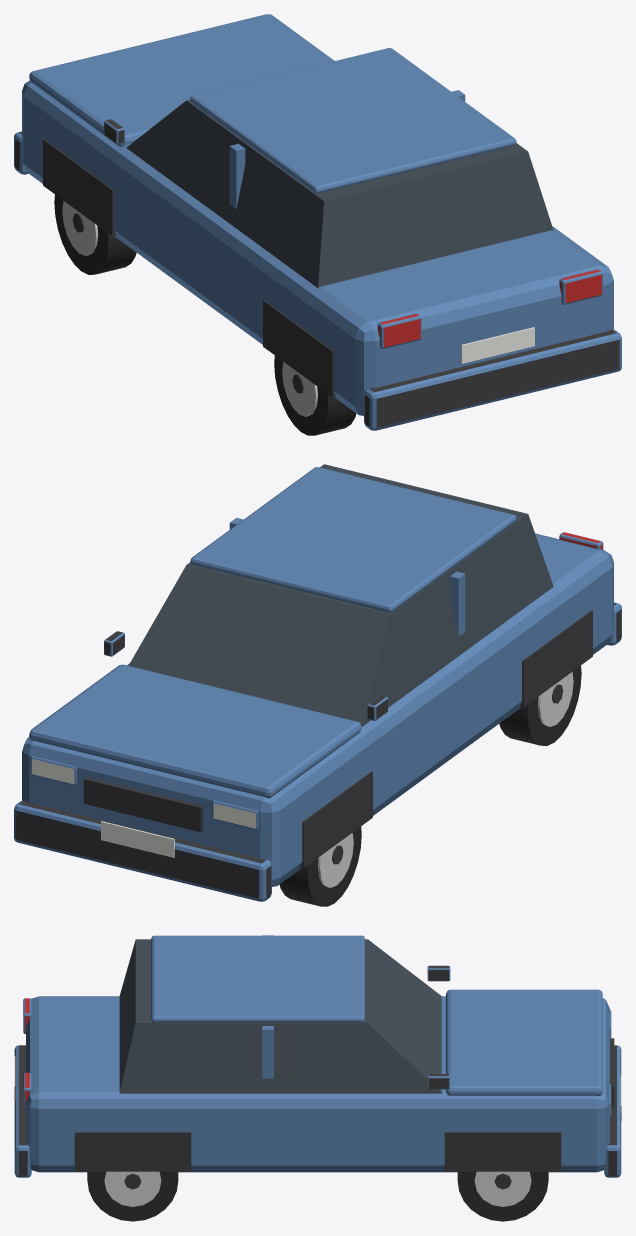
The model's file is car_hatchback.glb.
The picture shows the model from 3 angles, top to bottom: view 1: azimuth 30°, elevation 25°; view 2: azimuth 150°, elevation 25°; view 3: azimuth 270°, elevation 25°; orthographic projection. The views are drawn at different scales.
Parts seen in each view (by area): view 1: Body, WheelRL, WheelFL; view 2: Body, WheelFL, WheelRL; view 3: Body, WheelFR, WheelRR.
Part boxes in pixels (x1,y1,x2,y2): Body: (14, 14, 621, 430); WheelRL: (274, 355, 356, 435); WheelFL: (54, 194, 136, 274); Body: (14, 464, 621, 901); WheelFL: (279, 826, 361, 906); WheelRL: (499, 665, 581, 745); Body: (14, 935, 621, 1177); WheelFR: (457, 1171, 548, 1221); WheelRR: (87, 1171, 178, 1221).
Size of the model in its own units: 1.86 by 1.5 by 4.27.
